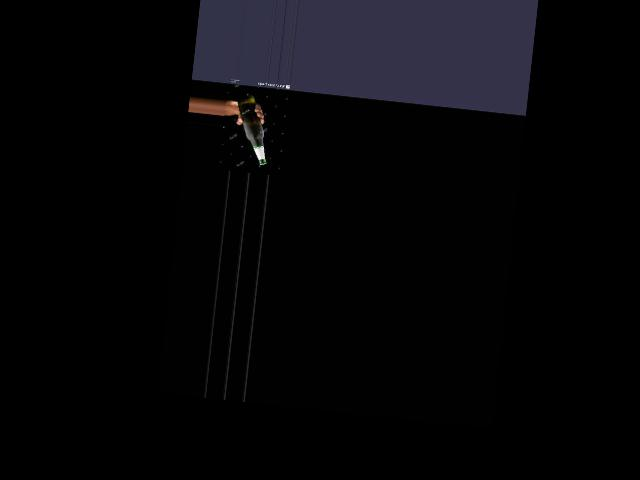beer: (230, 93, 273, 166)
